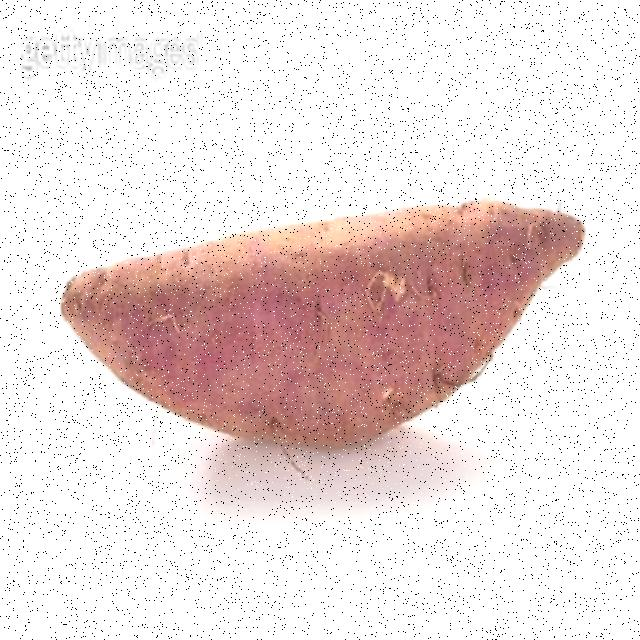Sweet Potato: (22, 175, 620, 490)
